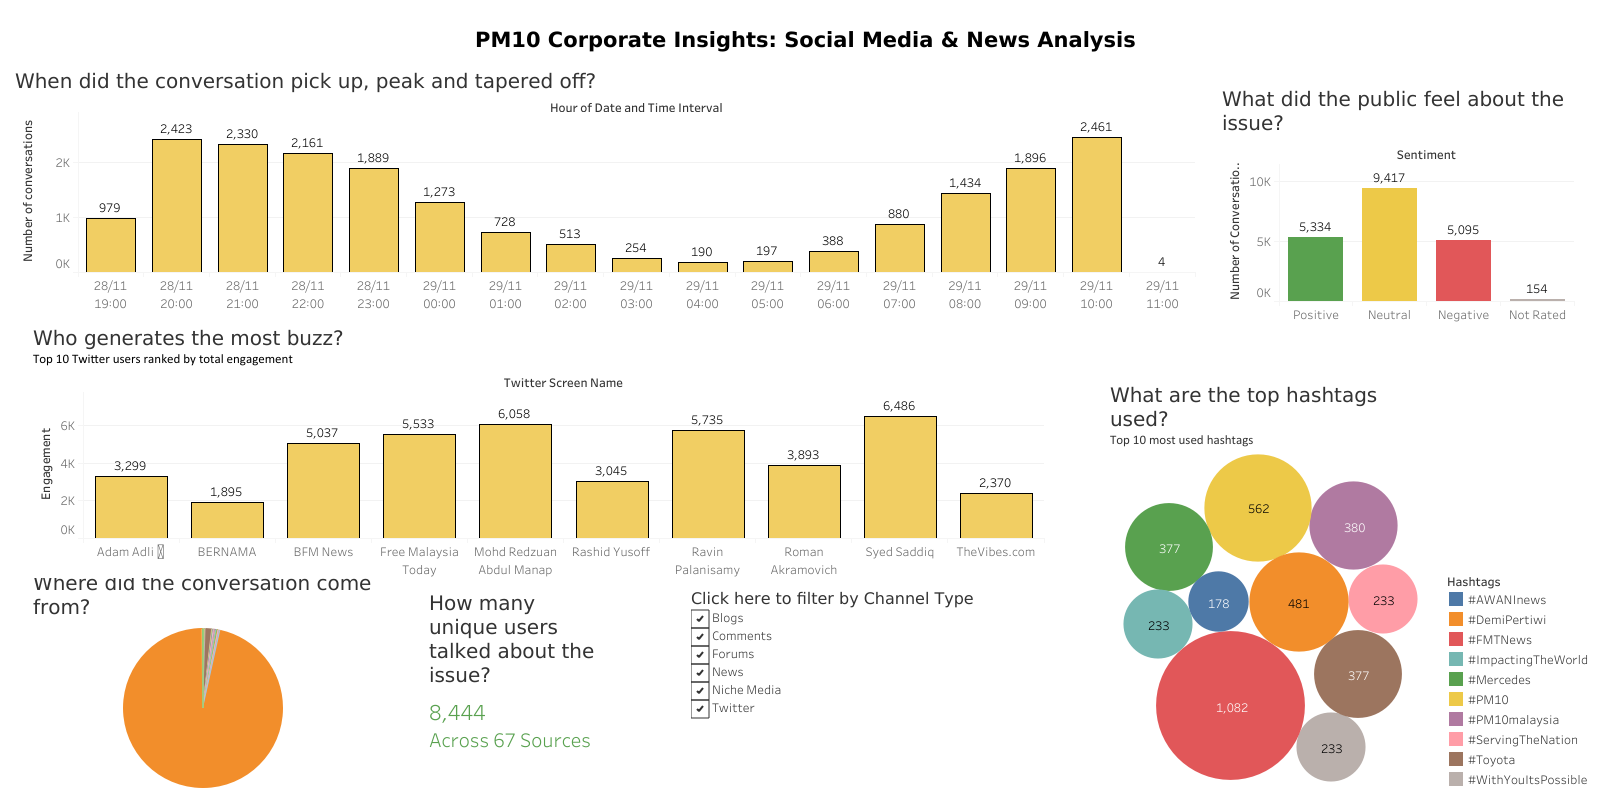

This screenshot's page, from the dashboard's own definition file:
{"tool":"tableau","page":{"name":"Dashboard 1","canvas":[1000,1000],"units":"permille","ordinal":0},"visuals":[{"type":"text","box":[10.6,17.5,985.6,62.5]},{"type":"worksheet","title":"REQ 1","mark":"Bar","rows":["Calculation_2141180175937691651"],"cols":["Calculation_2141180175938396164"],"box":[4.4,73.8,745,332.5]},{"type":"worksheet","title":"REQ 3","mark":"Automatic","rows":["Data Set_D9388E109B054C77AFE7F76ADDCBC212"],"cols":["Sentiment"],"box":[758.8,96.2,227.5,316.2]},{"type":"worksheet","title":"REQ 4","mark":"Bar","rows":["Engagement"],"cols":["Twitter Screen Name"],"box":[15.6,395,639.4,332.5]},{"type":"worksheet","title":"REQ 6","mark":"Circle","box":[691.2,471.2,205.6,516.2]},{"type":"worksheet","title":"REQ 2","mark":"Pie","box":[18.1,706,236.2,283.9]},{"type":"legend","title":"REQ 6","param":"[federated.1446hsm19lef1a19l2iow0qu0eql].[none:Hashtags:nk]","box":[903.8,712.5,91.9,272.5]},{"type":"filter","title":"REQ 4","param":"[federated.0pzd8q81okr2zk1a8t1m70kgm8ol].[none:Calculation_151152090317455363:nk","box":[429.4,730,263.8,228.1]},{"type":"worksheet","title":"REQ 5","mark":"Automatic","box":[265.6,731.2,153.1,223.8]}]}

Visuals, with their boxes on the dashboard's canvas, which has no fixed pixel size, in thousandths of its width and height (x1, y1, x2, y2). These are canvas units, not pixel positions in the 1599x799 screenshot, which may show the page scaled, cropped or inside an application window:
text: (left=11, top=18, right=996, bottom=80)
"REQ 1" worksheet (Bar marks): (left=4, top=74, right=749, bottom=406)
"REQ 3" worksheet: (left=759, top=96, right=986, bottom=412)
"REQ 4" worksheet (Bar marks): (left=16, top=395, right=655, bottom=728)
"REQ 6" worksheet (Circle marks): (left=691, top=471, right=897, bottom=987)
"REQ 2" worksheet (Pie marks): (left=18, top=706, right=254, bottom=990)
"REQ 6" legend: (left=904, top=712, right=996, bottom=985)
"REQ 4" filter: (left=429, top=730, right=693, bottom=958)
"REQ 5" worksheet: (left=266, top=731, right=419, bottom=955)
